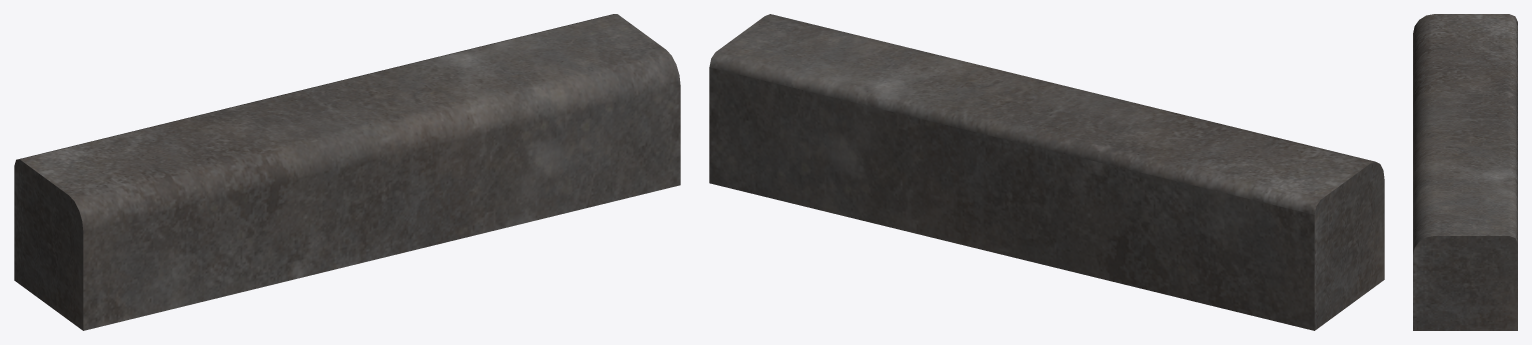
Rendered from Concrete_block.fbx.
3 views of the same model, side by side, from view 1: azimuth 30°, elevation 25°; view 2: azimuth 150°, elevation 25°; view 3: azimuth 270°, elevation 25° (orthographic). The views are drawn at different scales.
Parts seen in each view (by area): view 1: Concrete_block; view 2: Concrete_block; view 3: Concrete_block.
Boxes of the visible parts, left/top/right/bottom form: Concrete_block: left=14, top=14, right=680, bottom=330; Concrete_block: left=709, top=14, right=1384, bottom=330; Concrete_block: left=1413, top=14, right=1517, bottom=330.
Bounding box in the file's own units: 500 × 100 × 100.
